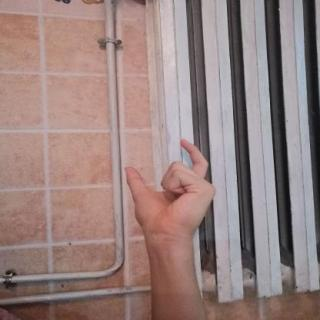NOON: (111, 133, 227, 244)
